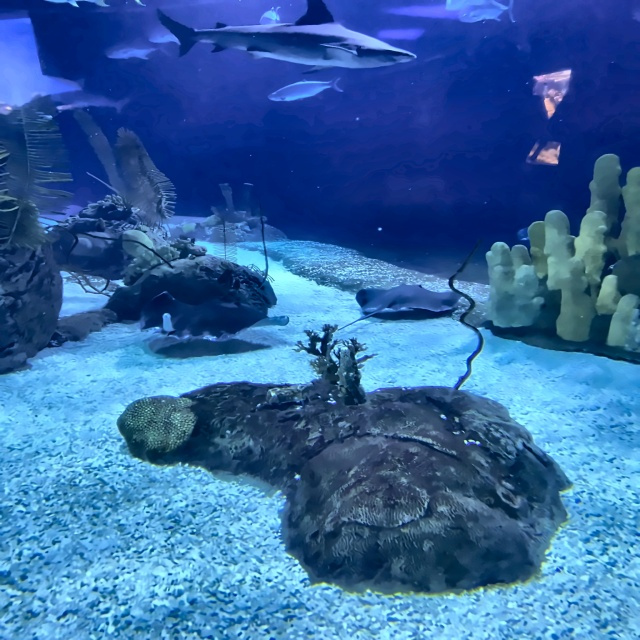fish: (268, 75, 345, 102), (457, 0, 515, 25), (102, 42, 159, 61), (42, 0, 148, 8), (260, 7, 281, 26)
shark: (154, 0, 416, 69)
stingray: (138, 290, 289, 341), (355, 282, 460, 317)
